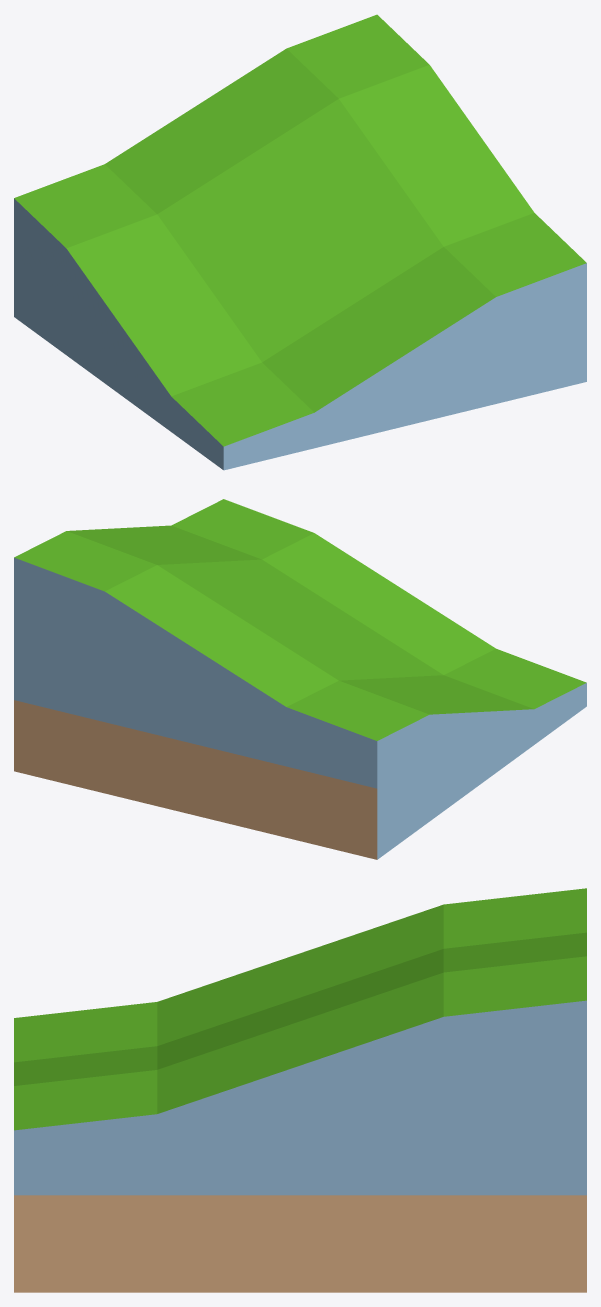
Rendered from Grass_Hill_Gentle_Overlapping_Gentle_4x4.glb.
3 renders of one model, top to bottom at view 1: azimuth 30°, elevation 25°; view 2: azimuth 150°, elevation 25°; view 3: azimuth 270°, elevation 25°, orthographic. The views are drawn at different scales.
Visible parts, largest first — view 1: Grass_Hill_Gentle_Overlapping_Gentle_4x4; view 2: Grass_Hill_Gentle_Overlapping_Gentle_4x4; view 3: Grass_Hill_Gentle_Overlapping_Gentle_4x4.
Boxes of the visible parts, x1,y1,x2,y2 form: Grass_Hill_Gentle_Overlapping_Gentle_4x4: [14, 14, 586, 470]; Grass_Hill_Gentle_Overlapping_Gentle_4x4: [14, 499, 586, 859]; Grass_Hill_Gentle_Overlapping_Gentle_4x4: [14, 888, 586, 1292].
Size of the model in its own units: 400 by 225 by 400.
